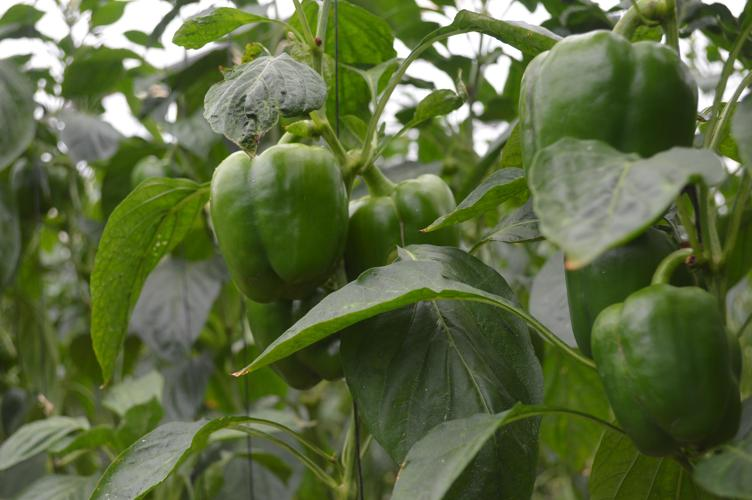BellPepper: (513, 33, 708, 164), (591, 288, 741, 453), (213, 147, 345, 301), (563, 229, 674, 332), (335, 173, 454, 269), (243, 287, 348, 391)
